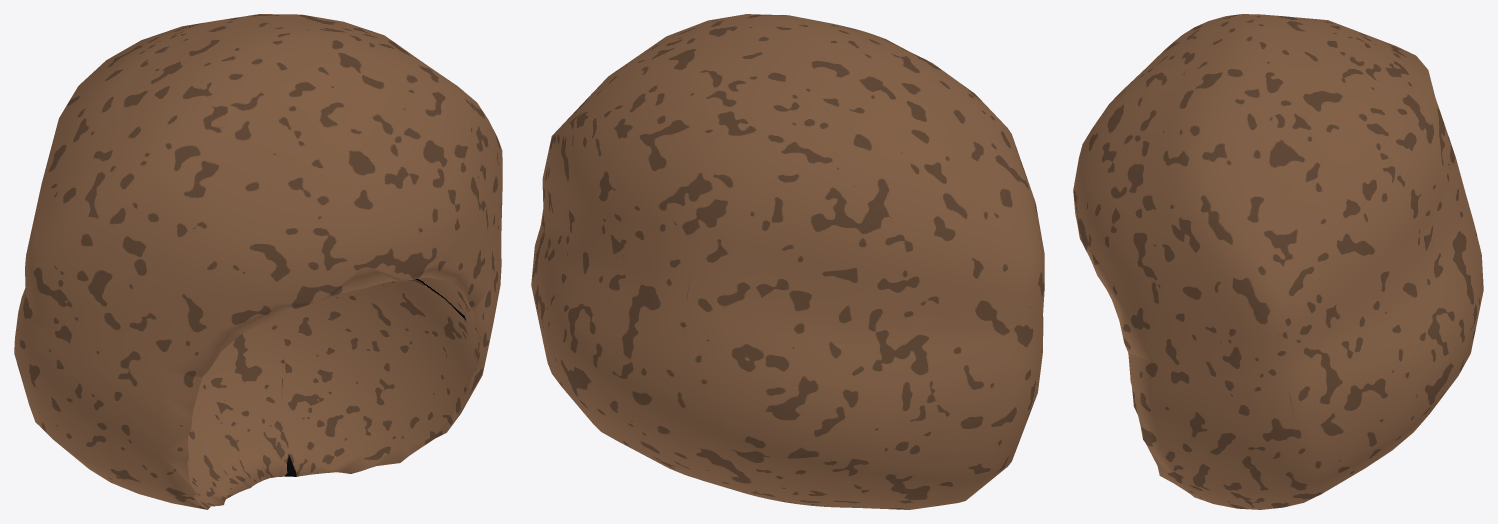
File: bob-boolean.glb
3 views of the same model, side by side, from view 1: azimuth 30°, elevation 25°; view 2: azimuth 150°, elevation 25°; view 3: azimuth 270°, elevation 25° (orthographic). The views are drawn at different scales.
Visible parts, largest first — view 1: Sphere.004; view 2: Sphere.004; view 3: Sphere.004.
Part boxes in pixels (bbox=[...]): Sphere.004: bbox=[14, 14, 502, 509]; Sphere.004: bbox=[531, 14, 1044, 509]; Sphere.004: bbox=[1073, 14, 1483, 509].
Bounding box in the file's own units: 3.12 × 2.82 × 2.43.
1 material, 1 textured.
